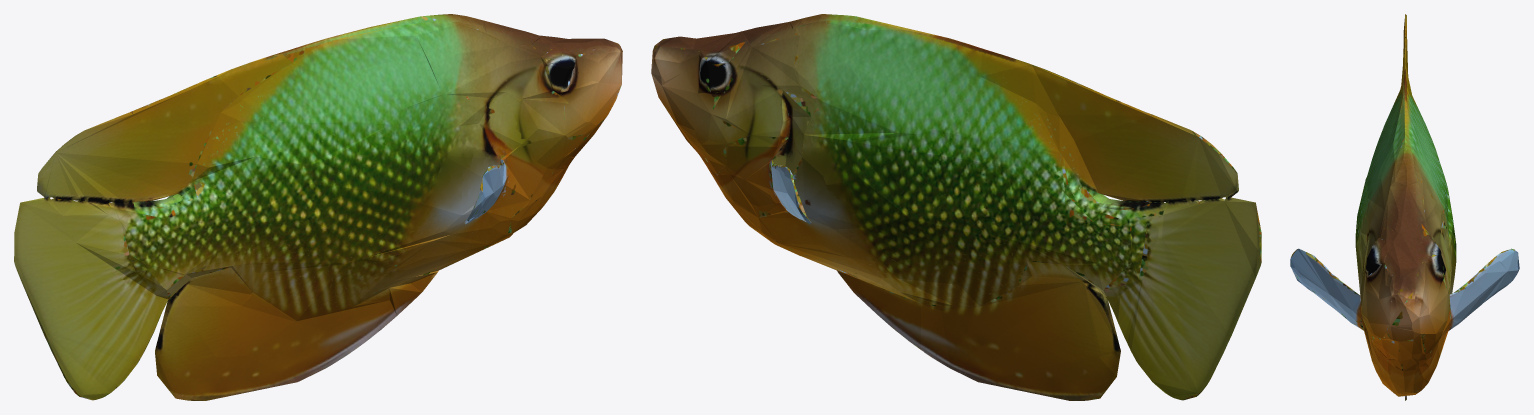
Rendered from fish_0037_smpl23_resized.glb.
3 renders of one model, left to right at view 1: azimuth 30°, elevation 25°; view 2: azimuth 150°, elevation 25°; view 3: azimuth 270°, elevation 25°, orthographic. The views are drawn at different scales.
Visible parts, largest first — view 1: world; view 2: world; view 3: world.
Part boxes in pixels (x1,y1,x2,y2): world: [14, 14, 622, 400]; world: [651, 14, 1261, 400]; world: [1290, 14, 1519, 400].
Size of the model in its own units: 1.99 by 1.05 by 0.7033.
1 material, 1 textured.
